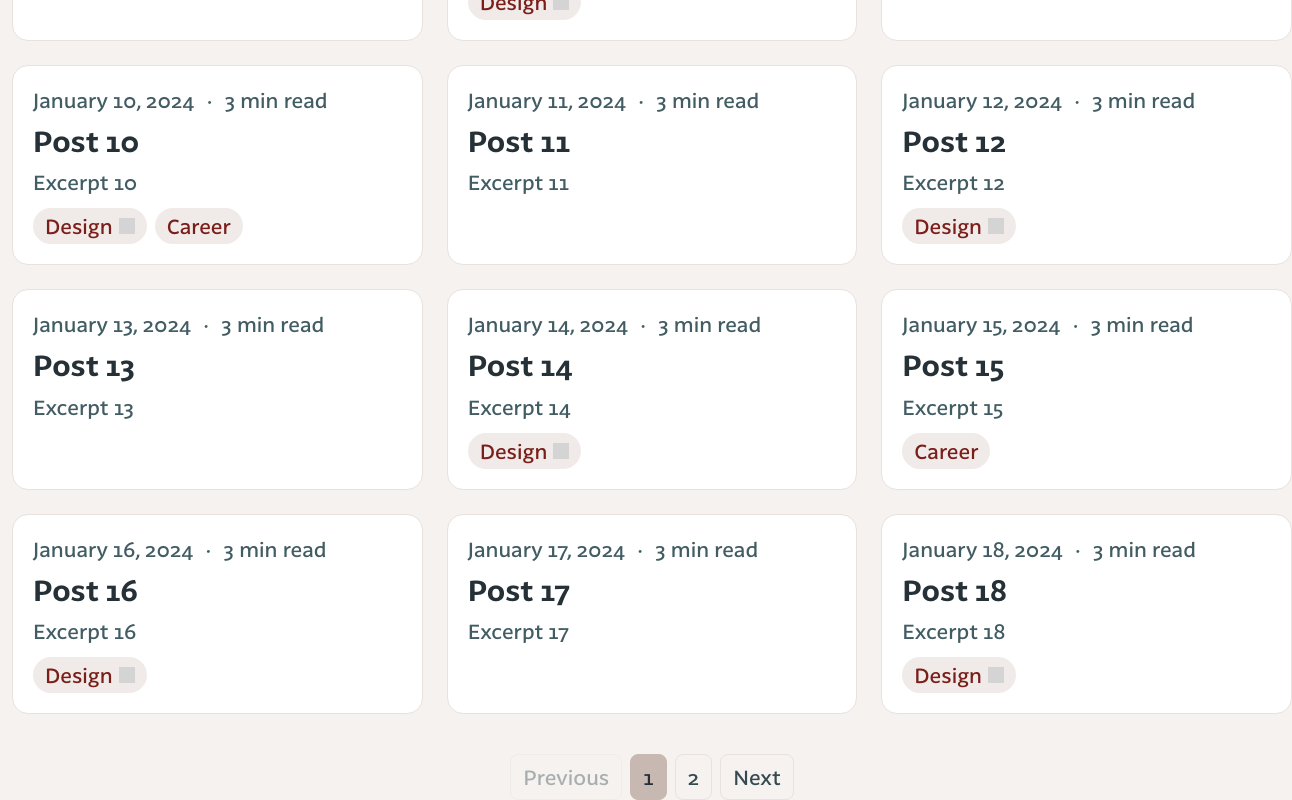
Test: BlogListClient › filters by category, resets to page 1 and toggles off on a second click
(page scrolled)
What coordinates should you click on to do the following:
click the button "2"
I would click on:
 (693, 777)
Its box is [675, 754, 712, 799].
(page scrolled)
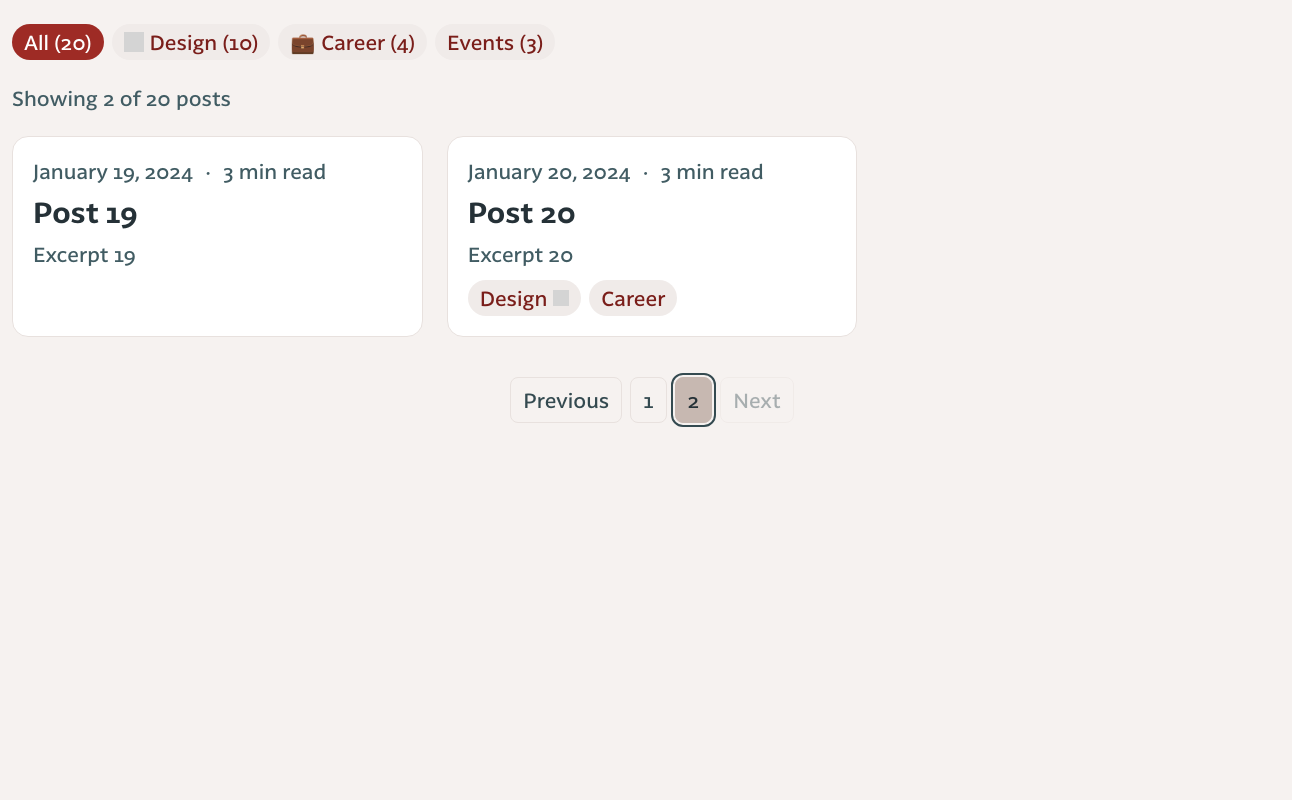
What coordinates should you click on to do the following:
click the button "💼 Career (4)"
I would click on:
 (353, 42)
Its box is [278, 24, 427, 60].
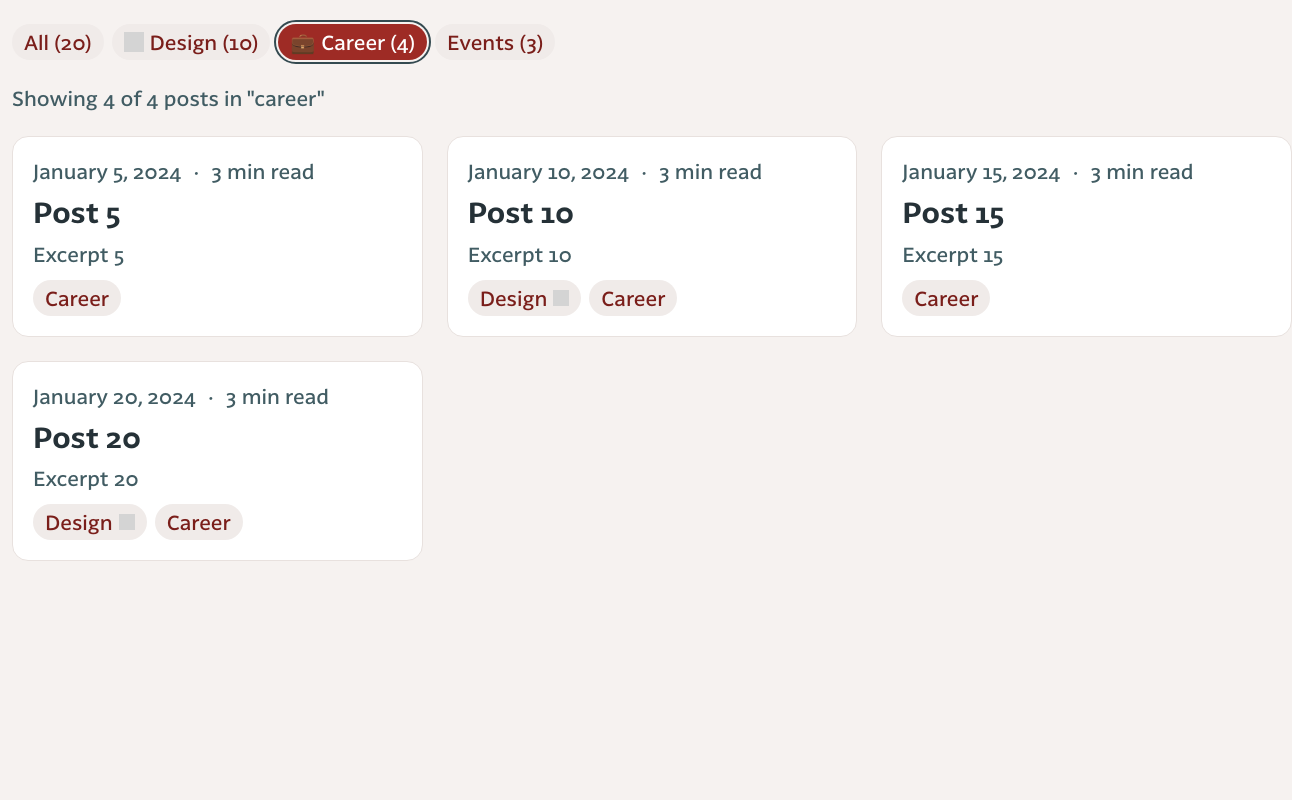
Expected: the text "Showing 4 of 4 posts in \"career\"" is shown, [12, 86, 325, 110]
Expected: the navigation bar is gone
What coordinates should you click on to do the following:
click the button "💼 Career (4)"
I would click on:
 (353, 42)
Its box is [278, 24, 427, 60].
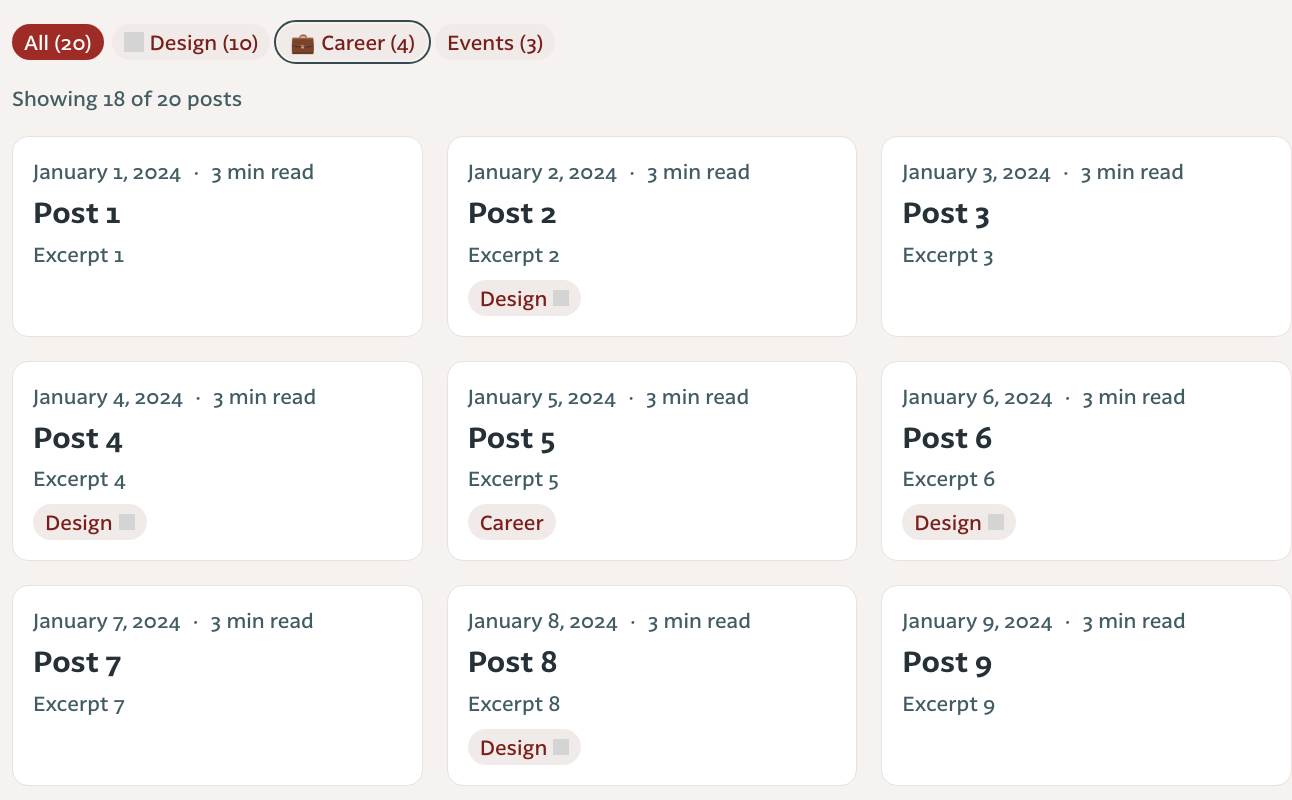
Expected: the text "Showing 18 of 20 posts" is shown, [12, 86, 242, 110]
What coordinates should you click on to do the following:
click the button "Design (10)"
I would click on:
 (191, 42)
Its box is [112, 24, 270, 60].
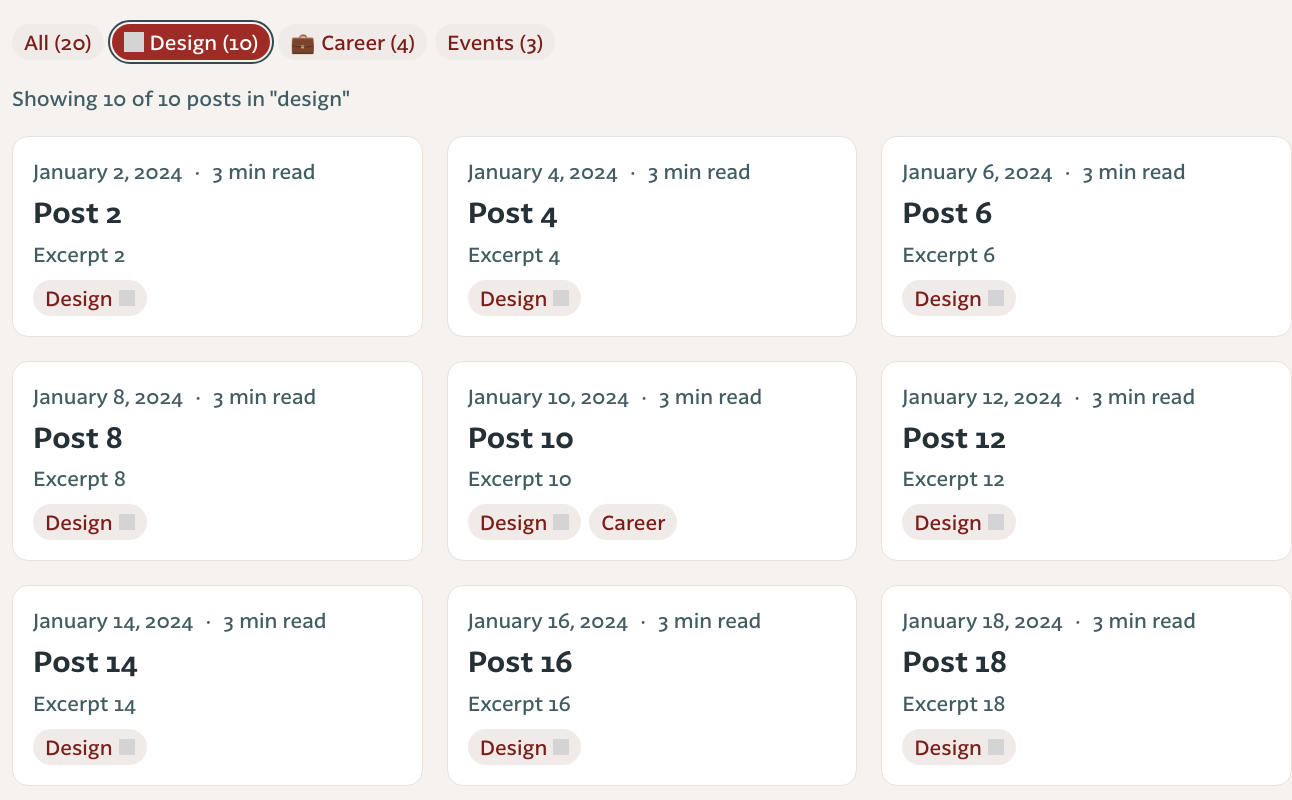
Expected: the text "Showing 10 of 10 posts in \"design\"" is shown, [12, 86, 350, 110]
What coordinates should you click on to do the following:
click the button "All (20)"
I would click on:
 (58, 42)
Its box is [12, 24, 104, 60].
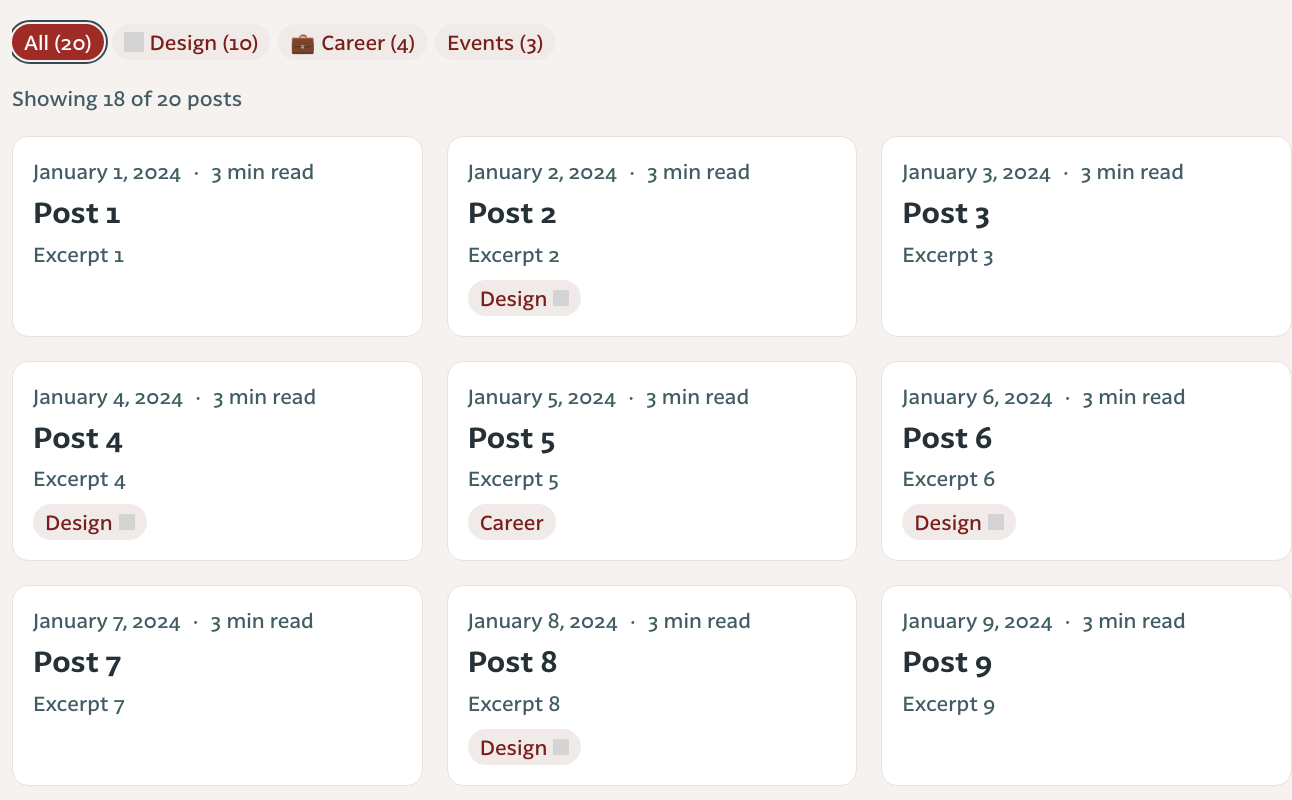
Expected: the text "Showing 18 of 20 posts" is shown, [12, 86, 242, 110]
